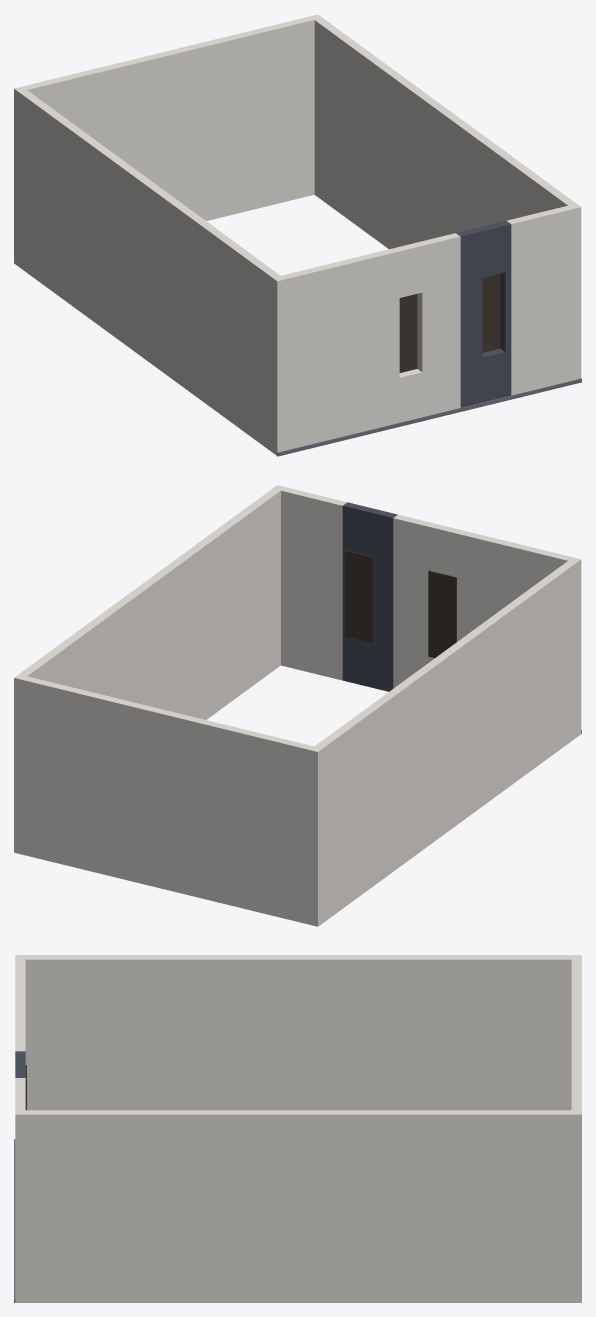
File: SM_Floor_NarrowUpperScatterLow_White_546_01.gltf
3 views of the same model, one above another, from view 1: azimuth 30°, elevation 25°; view 2: azimuth 150°, elevation 25°; view 3: azimuth 270°, elevation 25° (orthographic). The views are drawn at different scales.
Parts seen in each view (by area): view 1: SM_Floor_NarrowUpperScatterLow_White_546_01; view 2: SM_Floor_NarrowUpperScatterLow_White_546_01; view 3: SM_Floor_NarrowUpperScatterLow_White_546_01.
Boxes of the visible parts, left/top/right/bottom form: SM_Floor_NarrowUpperScatterLow_White_546_01: left=14, top=14, right=581, bottom=456; SM_Floor_NarrowUpperScatterLow_White_546_01: left=14, top=485, right=581, bottom=926; SM_Floor_NarrowUpperScatterLow_White_546_01: left=14, top=955, right=581, bottom=1302.
Size of the model in its own units: 5.46 by 3 by 8.21.
Materials: 1 (1 with a texture image).
